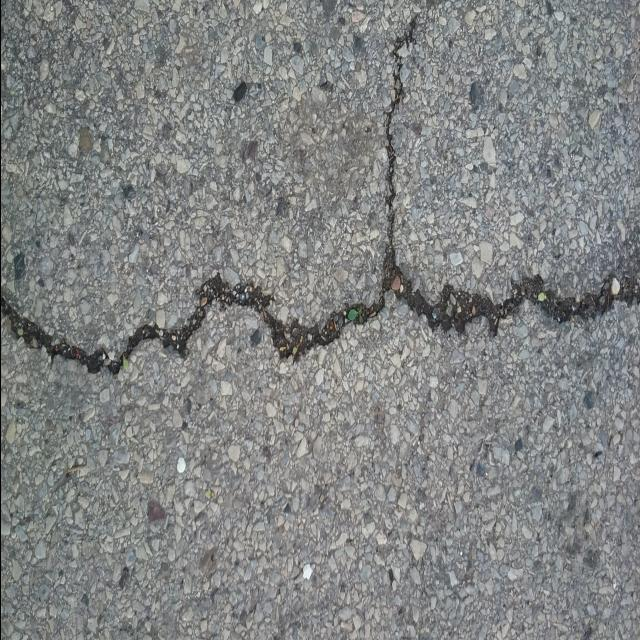Crack: (0, 16, 640, 379)
